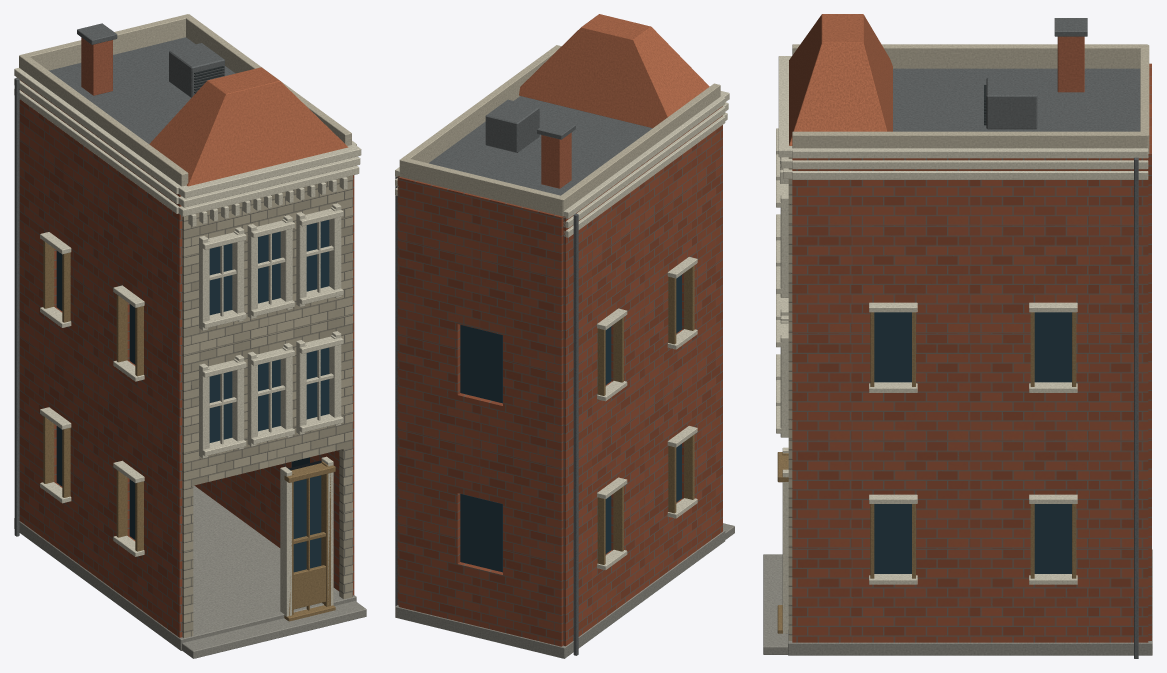
Rendered from VICT33_lod1.glb.
3 renders of one model, left to right at view 1: azimuth 30°, elevation 25°; view 2: azimuth 150°, elevation 25°; view 3: azimuth 270°, elevation 25°, orthographic. The views are drawn at different scales.
Parts seen in each view (by area): view 1: VICT33_LOD1; view 2: VICT33_LOD1; view 3: VICT33_LOD1.
Boxes of the visible parts, left/top/right/bottom form: VICT33_LOD1: left=14, top=14, right=366, bottom=658; VICT33_LOD1: left=395, top=14, right=734, bottom=658; VICT33_LOD1: left=763, top=14, right=1152, bottom=658.
Size of the model in its own units: 4.11 by 10.8 by 6.57.
Materials: 12 (10 with a texture image).
